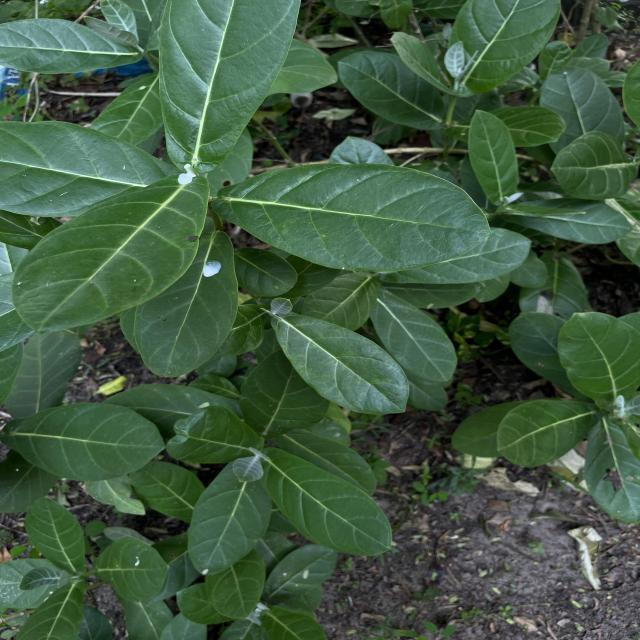Calotropis gigantea: (11, 174, 216, 332), (211, 162, 494, 274), (158, 0, 303, 172), (270, 310, 410, 416), (261, 448, 394, 558), (6, 399, 168, 484), (186, 460, 273, 577), (555, 308, 640, 409), (370, 291, 458, 382), (493, 398, 601, 468), (548, 132, 638, 200), (466, 108, 520, 204)
